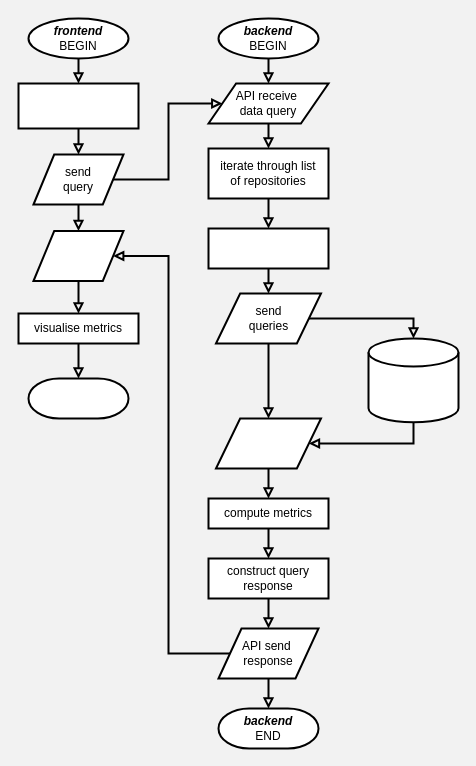
Some shapes in this 476 by 766 pixel diagram are drawn without their labels. Each missing label, with the box of its shape:
construct API metadata queries: (207, 227, 329, 269)
construct API query for metrics: (17, 82, 139, 129)
frontend END: (27, 377, 129, 419)
receive response: (32, 230, 124, 282)
receive responses: (214, 417, 322, 469)
Wikifactory & GitHub APIs: (367, 337, 459, 423)
